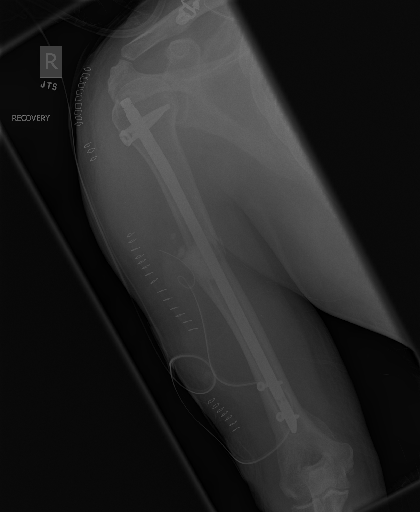implant: (118, 80, 176, 182)
